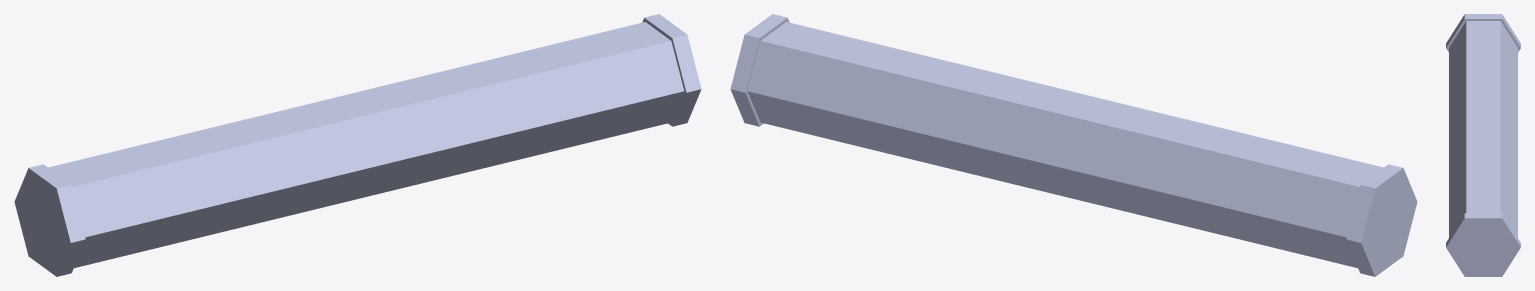
File: Pipe_Straight.FBX
3 renders of one model, left to right at view 1: azimuth 30°, elevation 25°; view 2: azimuth 150°, elevation 25°; view 3: azimuth 270°, elevation 25°, orthographic. The views are drawn at different scales.
Parts seen in each view (by area): view 1: Mirror4; view 2: Mirror4; view 3: Mirror4.
Boxes of the visible parts, left/top/right/bottom form: Mirror4: left=14, top=14, right=701, bottom=276; Mirror4: left=730, top=14, right=1417, bottom=276; Mirror4: left=1446, top=14, right=1520, bottom=276.
Size of the model in its own units: 21 by 2.81 by 3.25.
